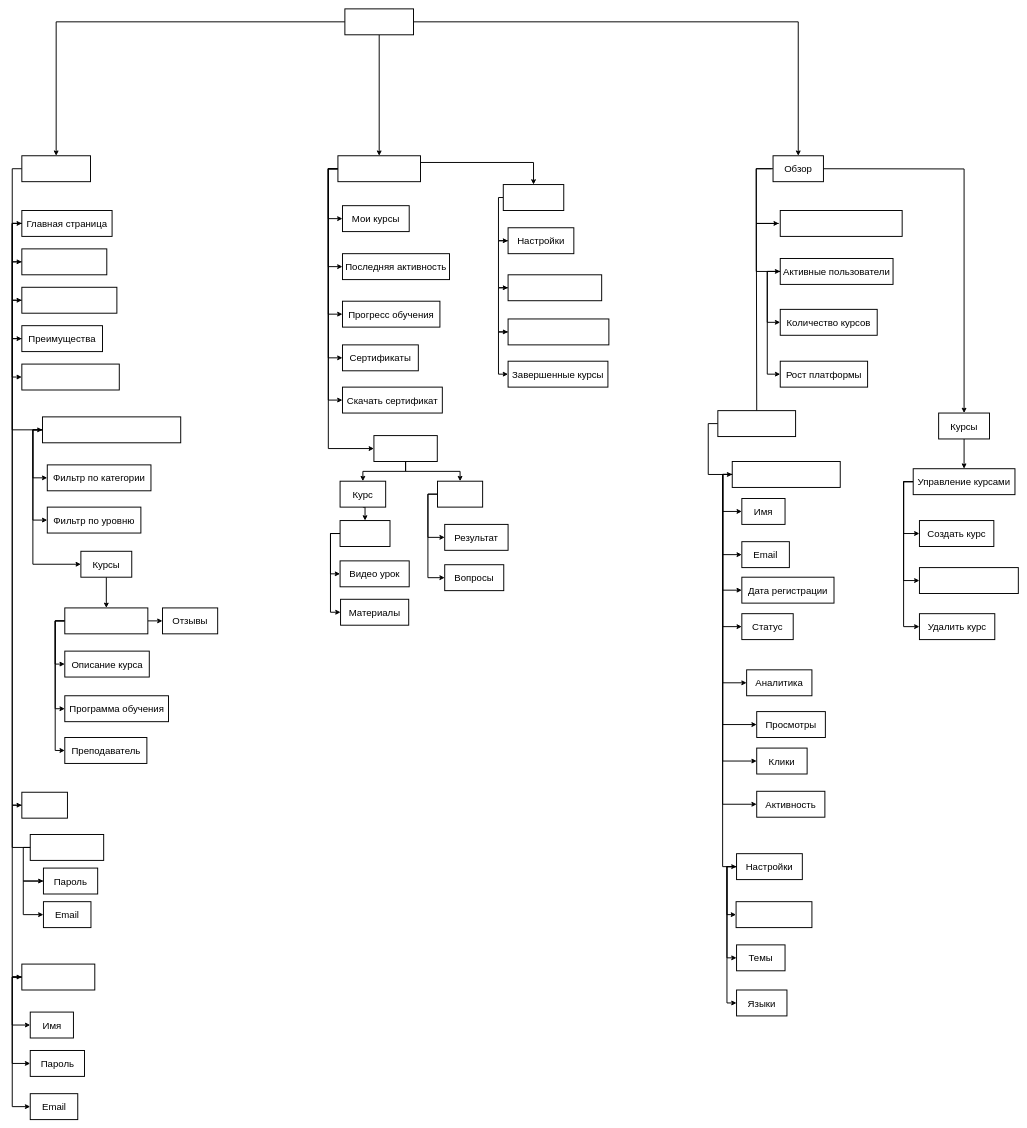
Image size: 1027x1128. Some labels were removed from this diagram. The shapes that lost their labels are listed below. From the top down, each one's centre as x and y in pixels, then its label:
At (379,21): "Платформа".
At (56,168): "Публичная часть".
At (379,168): "Главная панель".
At (533,197): "Профиль".
At (841,223): "Статистика пользователей".
At (64,261): "Главный баннер".
At (69,300): "Популярные курсы".
At (554,287): "История обучения".
At (558,331): "Личная информация".
At (70,376): "Призыв к действию".
At (111,429): "Каталог курсов".
At (756,423): "Пользователи".
At (405,448): "Обучение".
At (460,493): "Тест".
At (786,474): "Список пользователей".
At (364,533): "Уроки".
At (969,580): "Редактировать курс".
At (106,620): "Страница курса".
At (44,805): "Вход".
At (67,847): "Авторизация".
At (773,914): "Безопасность".
At (58,976): "Регистрация".
